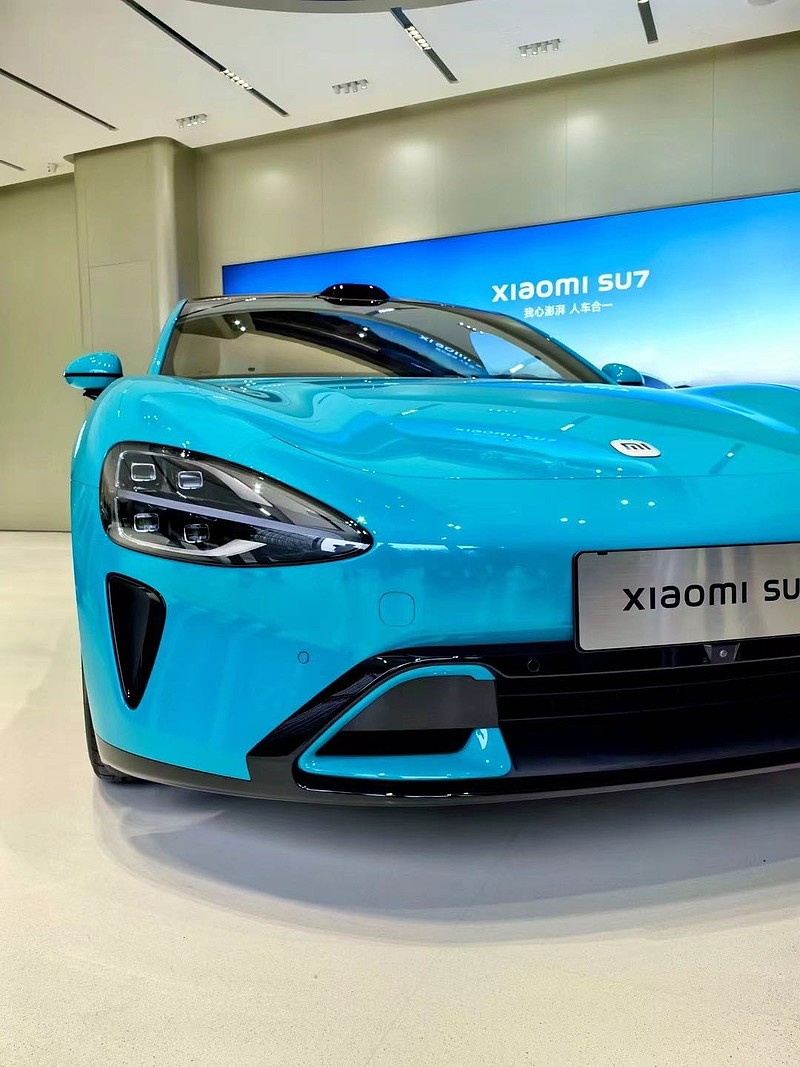su7: (71, 265, 800, 869)
